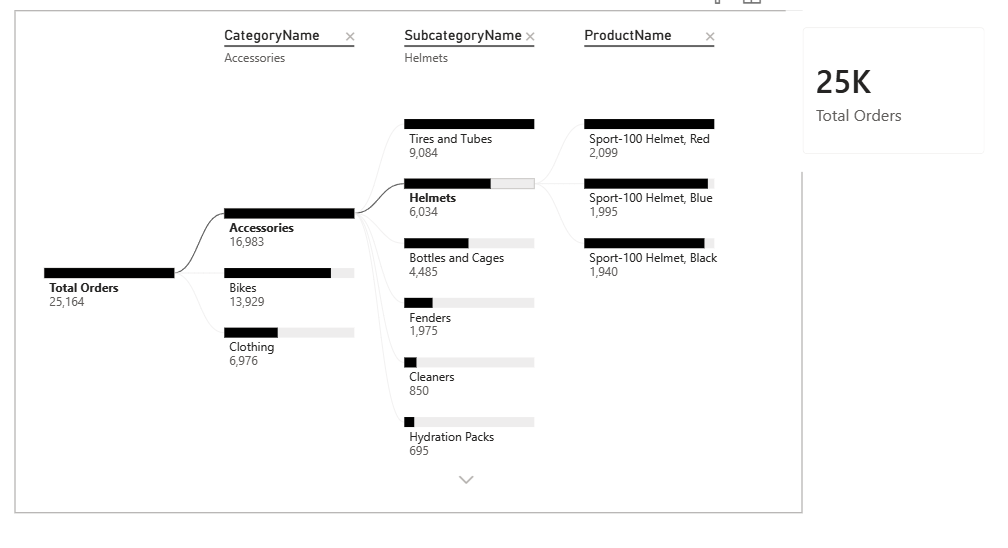

The page's visual inventory and layout, read from the dashboard file:
{"tool":"powerbi","page":{"name":"Decomposition Tree","canvas":[1280,720],"ordinal":5},"visuals":[{"type":"decompositionTreeVisual","fields":{"Analyze":["Measure Table.Total Orders"],"ExplainBy":["Product Categories Lookup.CategoryName","Product Subcategories Lookup.SubcategoryName","Product Lookup.ProductName"]},"box":[26.9,121.1,787.5,503.8],"z":0},{"type":"cardVisual","fields":{"Data":["Measure Table.Total Orders"]},"box":[798.5,121.1,216.4,161.4],"z":1000}]}

Visuals, with their boxes on the page's 1280x720 design canvas (x1, y1, x2, y2). These are canvas units, not pixel positions in the 1008x548 screenshot, which may show the page scaled, cropped or inside an application window:
decompositionTreeVisual - Measure Table.Total Orders x Product Categories Lookup.CategoryName: region(27, 121, 814, 625)
cardVisual - Measure Table.Total Orders: region(798, 121, 1015, 282)
